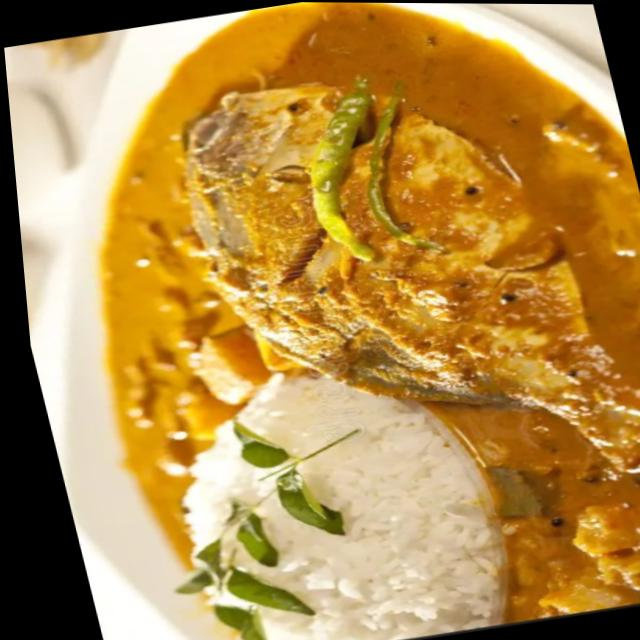FISH CURRY: (103, 2, 640, 622)
